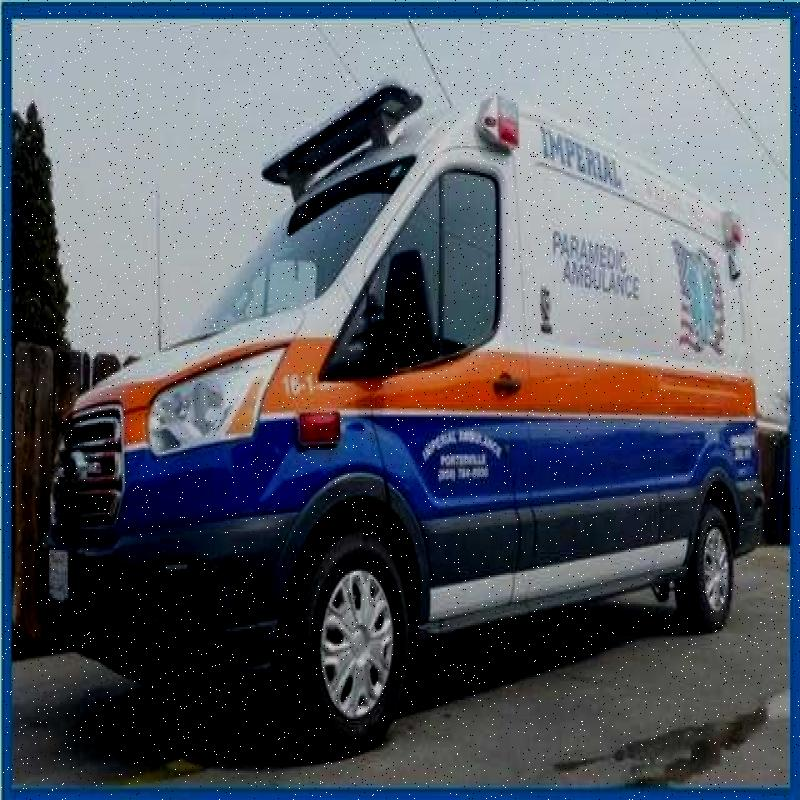AmbulanceSiren: (269, 75, 450, 168)
